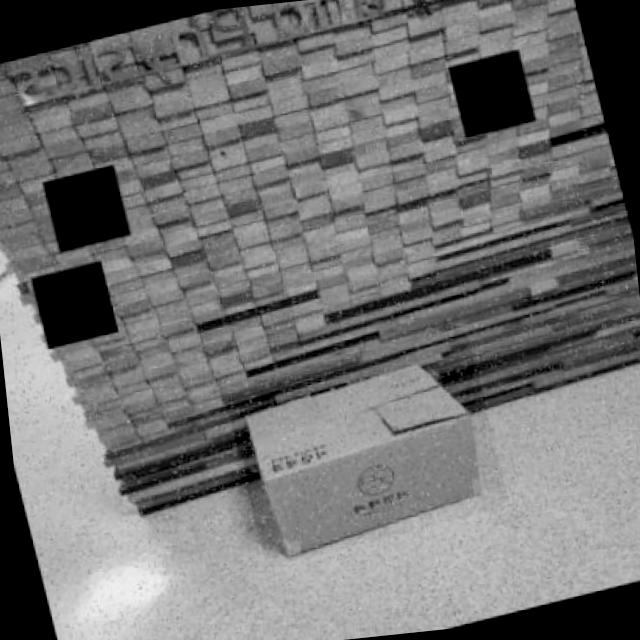box: (220, 330, 516, 569)
